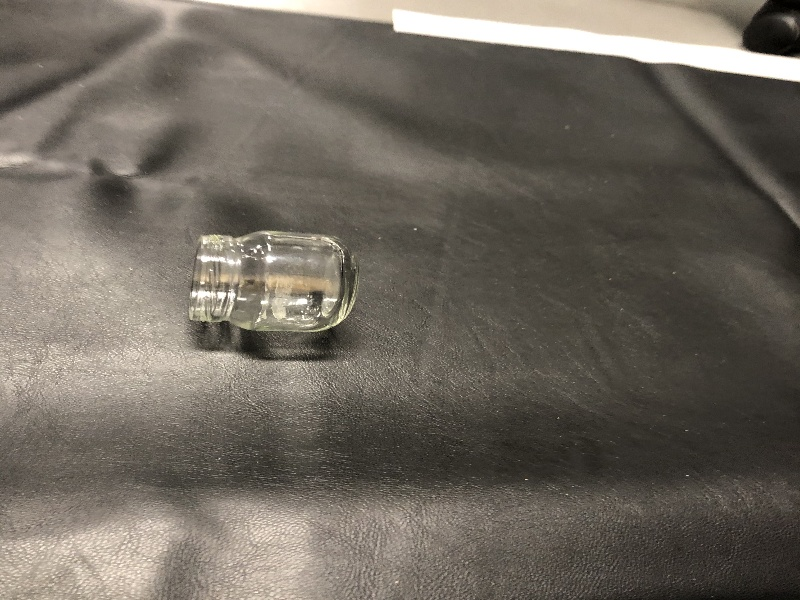glass: (180, 219, 363, 341)
